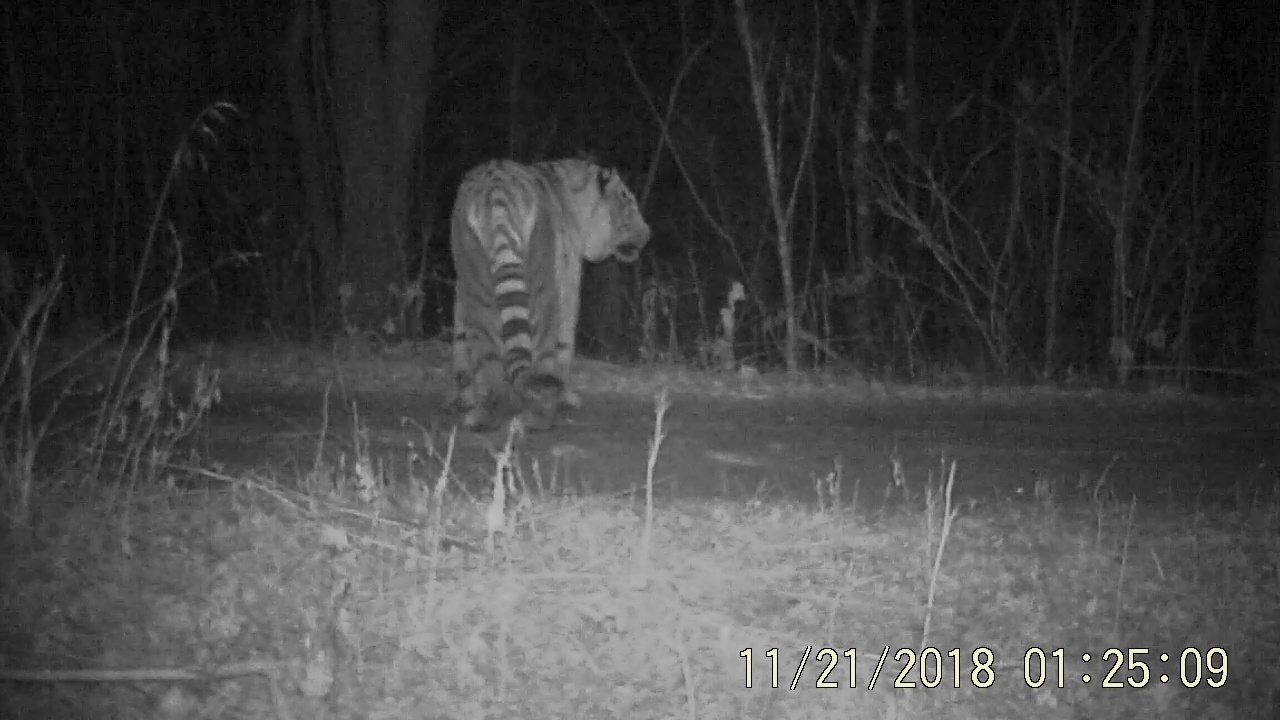Tiger: (407, 135, 671, 464)
